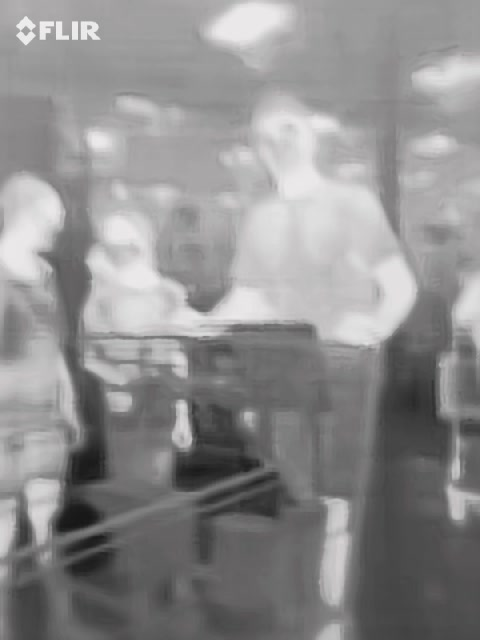head: (250, 99, 320, 178), (2, 176, 63, 251)
